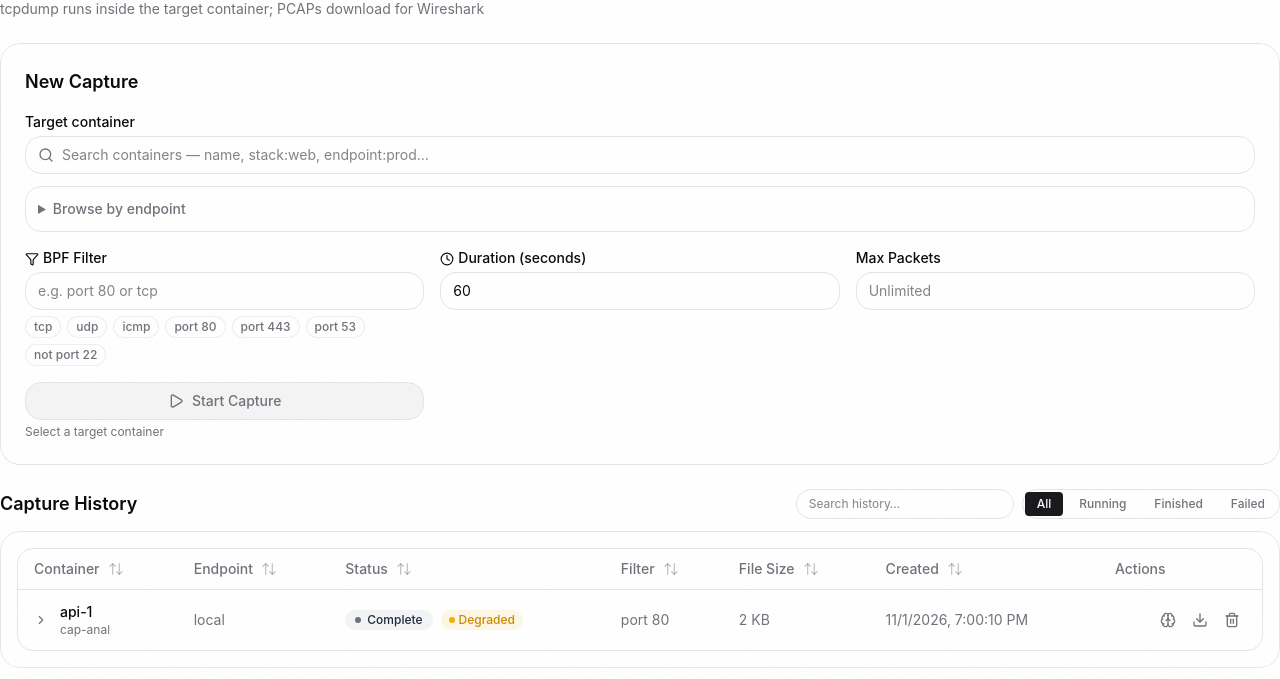
Test: PacketCapture › analysis confidence badge › renders the panel from the parsed-JSONB object the API actually sends
The image size is (1280, 679).
Step 1. Click the button titled "Toggle analysis" → (41, 620), box [30,608,52,630]
(page scrolled)
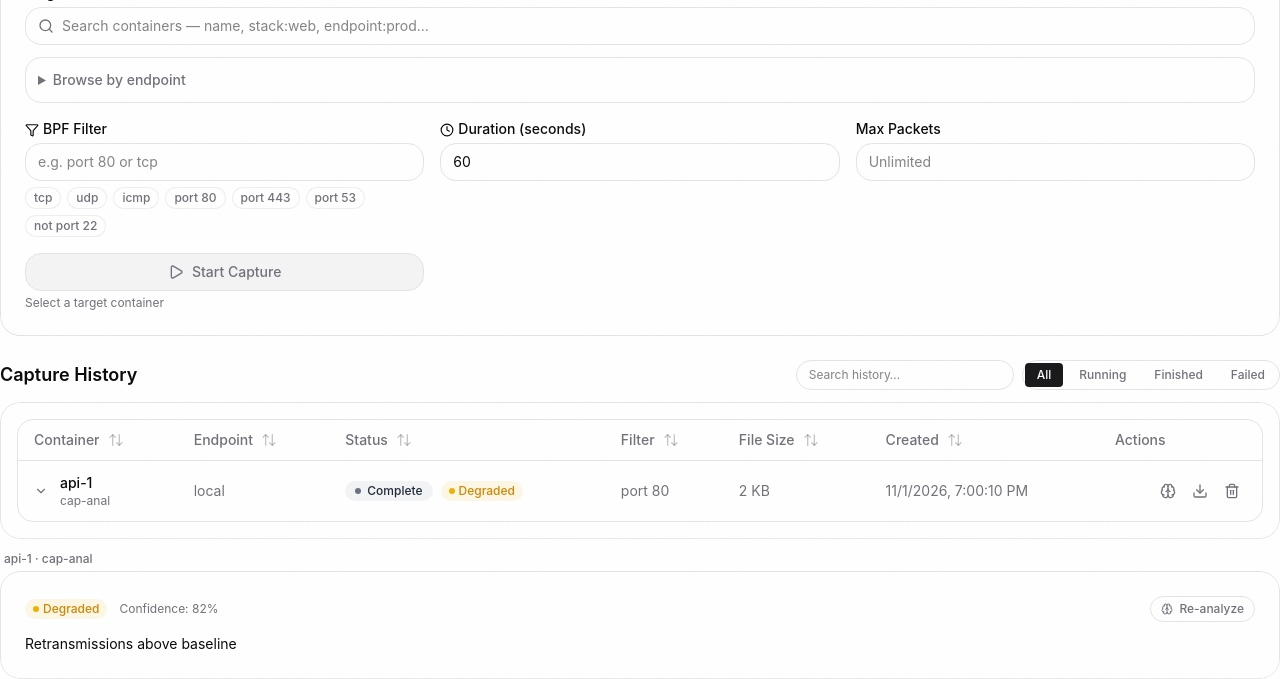
Now the text "Retransmissions above baseline" is shown, box [25,634,237,652]
